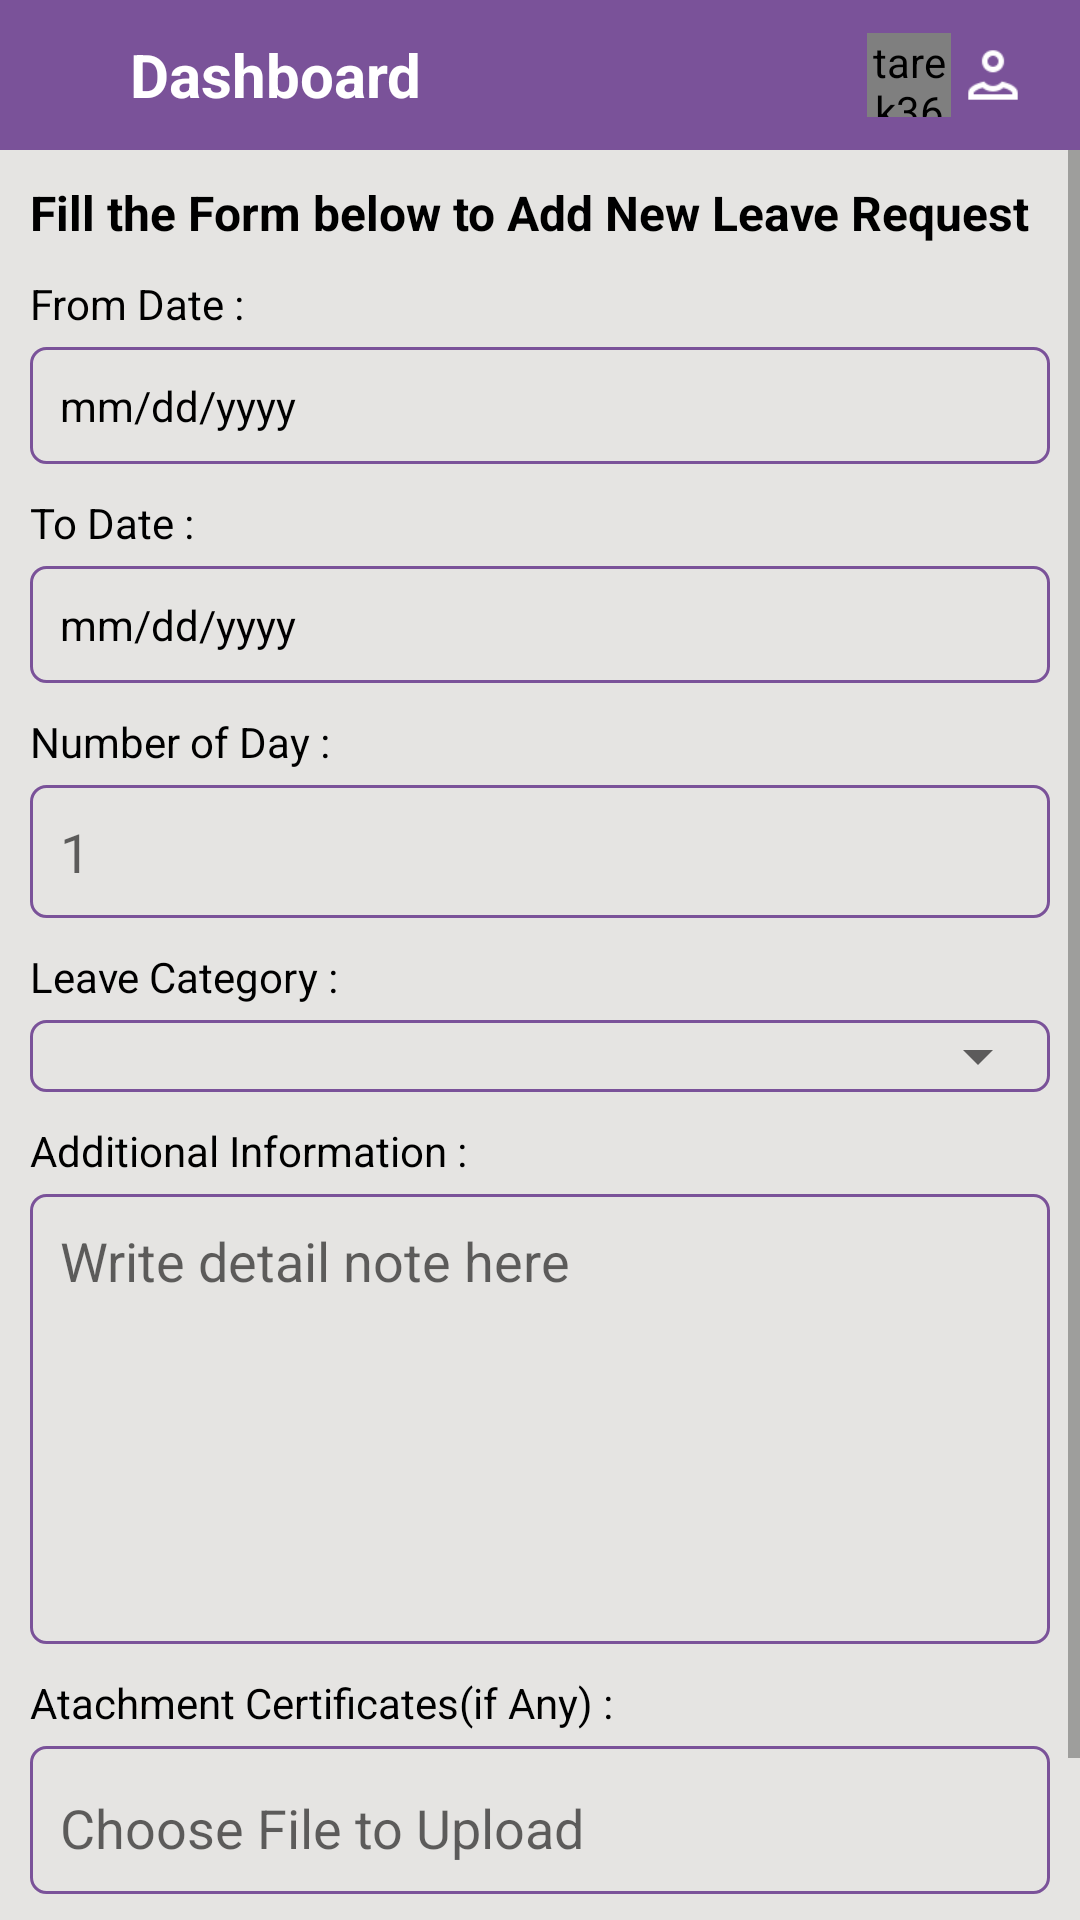

Screen size 1080×1920. Icon name, then its box in pixels as (x1, y1, x2, y2):
person: (968, 50, 1018, 100)
